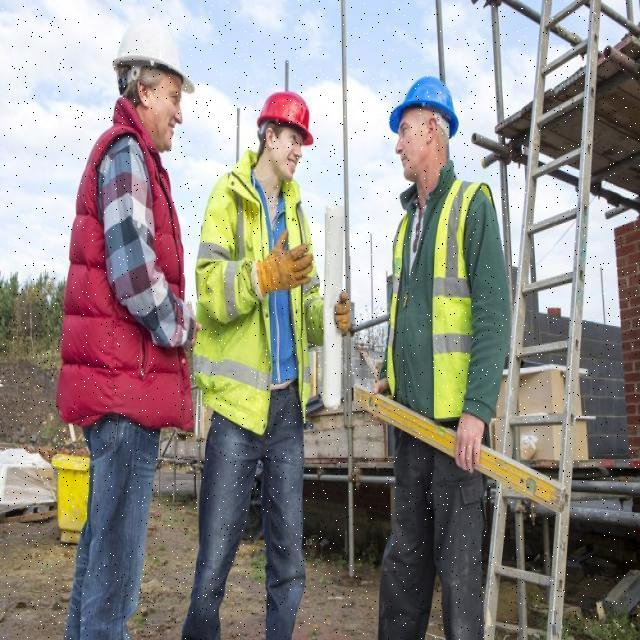Hard_hat: (109, 3, 204, 93), (383, 72, 459, 128), (252, 86, 320, 141)
Vest: (384, 181, 484, 426)
